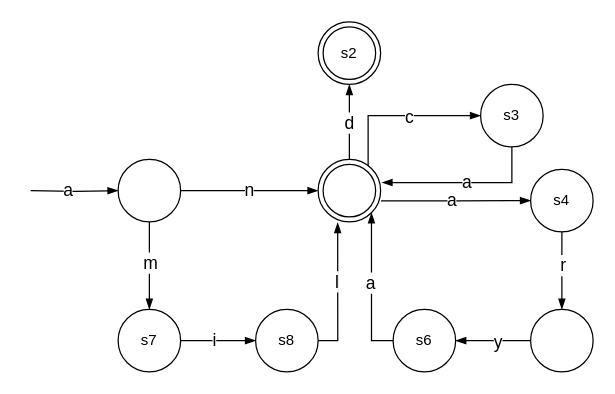
Some shapes in this 615 by 394 pixel diagram are drawn without their labels. Here are the shapes that lost their labels. From the top down, the box of each, then its label:
(117, 158, 181, 222): s0
(317, 158, 381, 222): s1
(529, 308, 593, 372): s5
